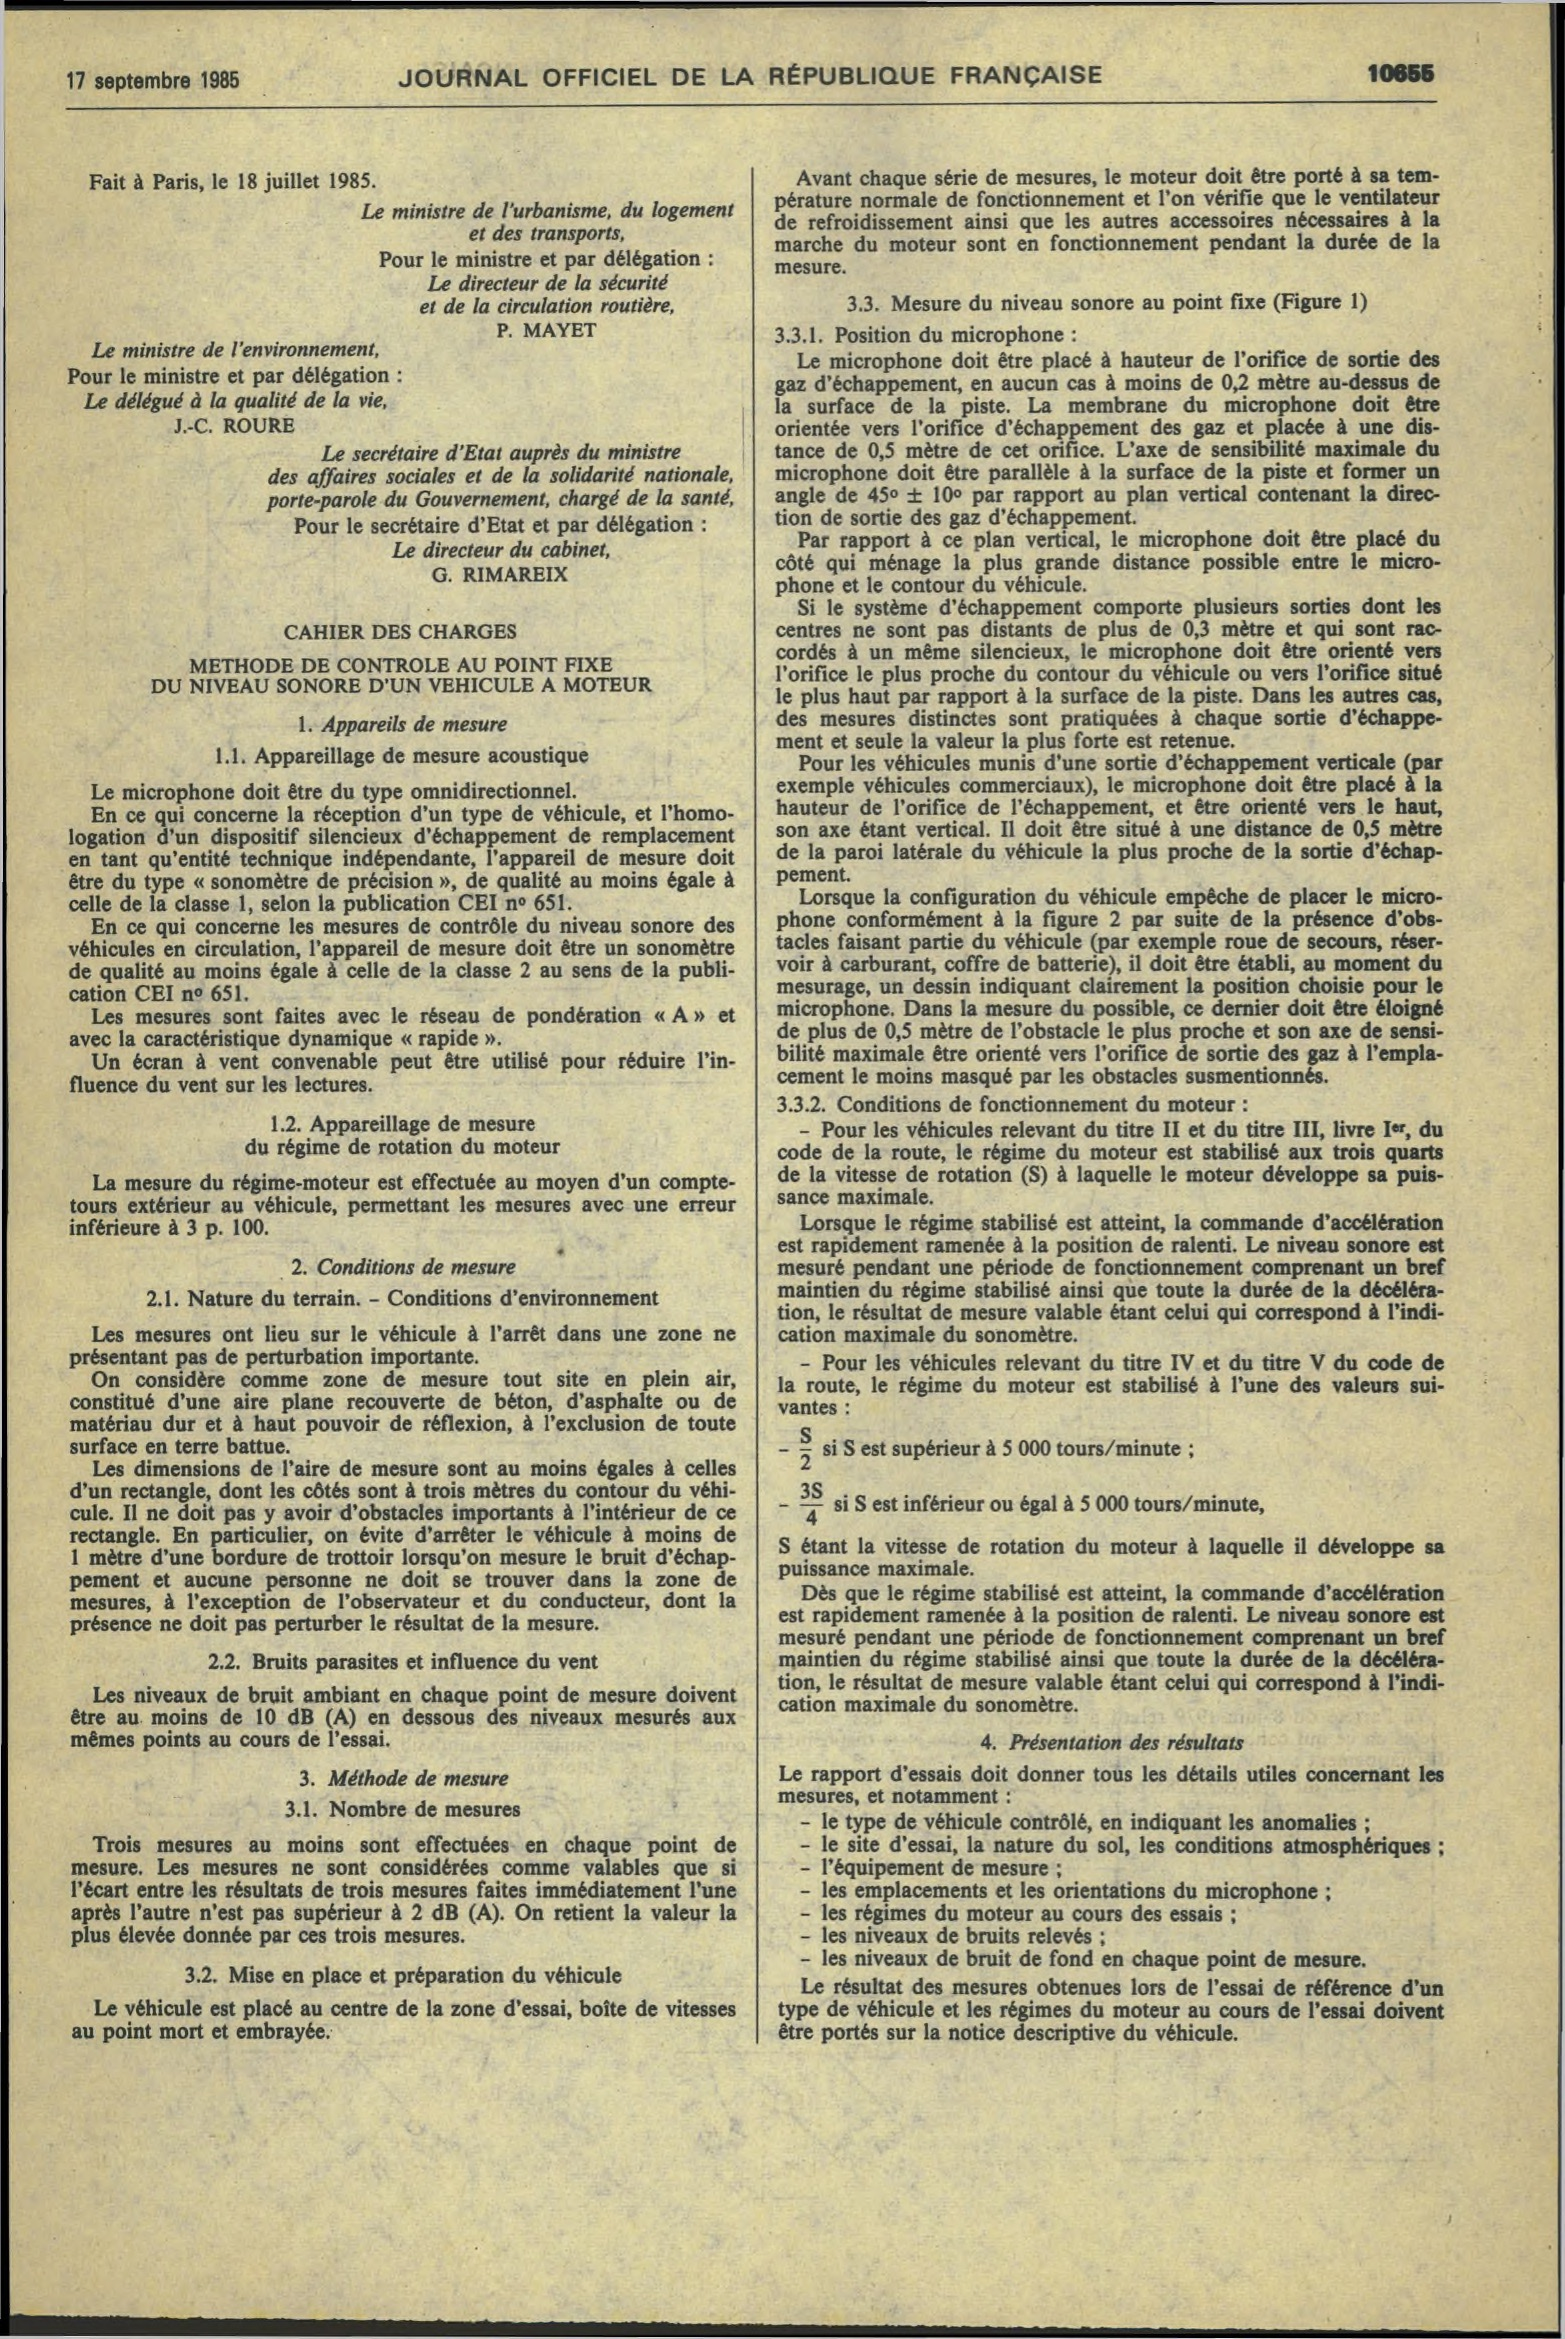MainZone-Date: (60, 61, 248, 99)
MainZone-Head: (140, 648, 656, 703), (833, 286, 1377, 321), (133, 1283, 675, 1317), (172, 1960, 644, 1992), (178, 1646, 613, 1678), (770, 1089, 1258, 1117), (208, 740, 596, 772), (765, 320, 1082, 352), (236, 1136, 568, 1166), (971, 1727, 1250, 1758), (283, 1249, 529, 1283), (276, 1795, 526, 1828), (258, 1108, 544, 1136), (286, 1763, 518, 1795), (288, 711, 518, 741), (267, 621, 526, 643)
MainZone-ListItem: (770, 1350, 1452, 1420), (776, 1480, 1280, 1524), (772, 1425, 1202, 1475), (772, 1808, 1403, 1834), (779, 1947, 1381, 1974), (796, 1830, 1452, 1854), (792, 1879, 1339, 1903), (793, 1901, 1251, 1926), (793, 1924, 1109, 1947), (796, 1854, 1066, 1880)
MainZone-P: (768, 884, 1449, 1089), (767, 349, 1451, 528), (62, 1457, 742, 1637), (768, 596, 1450, 752), (769, 1210, 1450, 1349), (771, 1581, 1452, 1719), (768, 750, 1452, 885), (63, 1827, 743, 1951), (765, 160, 1449, 279), (57, 802, 741, 913), (768, 1119, 1456, 1211), (60, 915, 740, 1005), (60, 1368, 742, 1456), (59, 1680, 741, 1756), (771, 1975, 1446, 2051), (59, 1167, 741, 1242), (768, 528, 1448, 597), (62, 1994, 738, 2053), (769, 1531, 1452, 1581), (58, 1049, 740, 1099), (54, 1320, 742, 1368), (769, 1759, 1452, 1807), (61, 1004, 741, 1049), (61, 775, 581, 804), (73, 166, 379, 195)
MainZone-Signature: (259, 436, 740, 592), (358, 194, 740, 346), (57, 332, 407, 441)
NumberingZone: (1362, 56, 1440, 92)
RunningTitleZone: (388, 52, 1115, 98)
